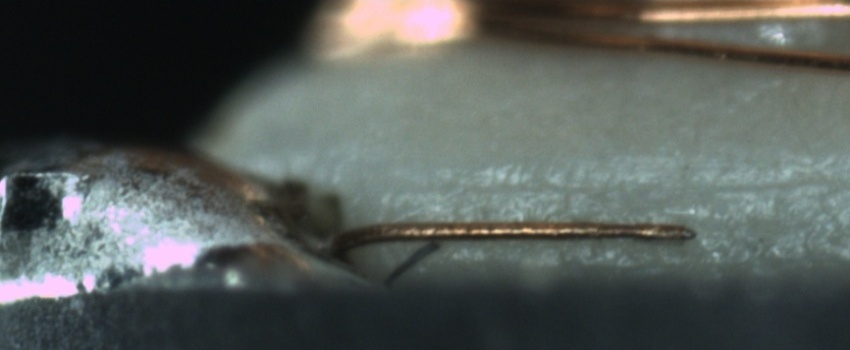DL: (398, 156, 849, 223)
